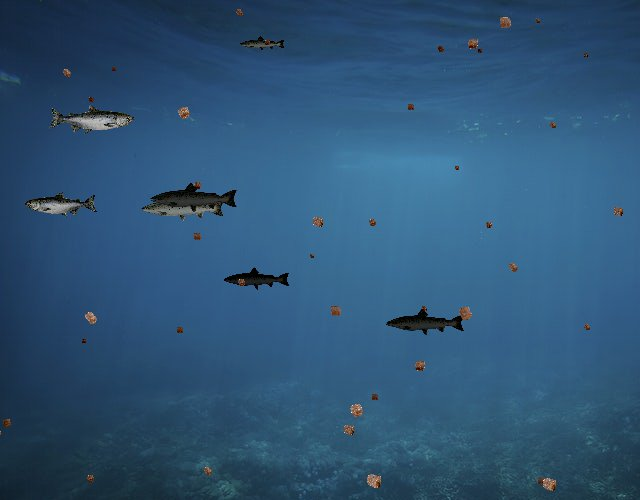Fish: (149, 182, 239, 214), (140, 192, 226, 223), (48, 104, 134, 135), (386, 308, 467, 337), (26, 191, 98, 218), (224, 266, 292, 290), (240, 35, 287, 52)
Pellet: (493, 11, 517, 35), (306, 210, 329, 233), (503, 257, 523, 277), (57, 64, 76, 83), (231, 4, 247, 20), (368, 390, 382, 404), (85, 93, 98, 106), (452, 162, 462, 173)
